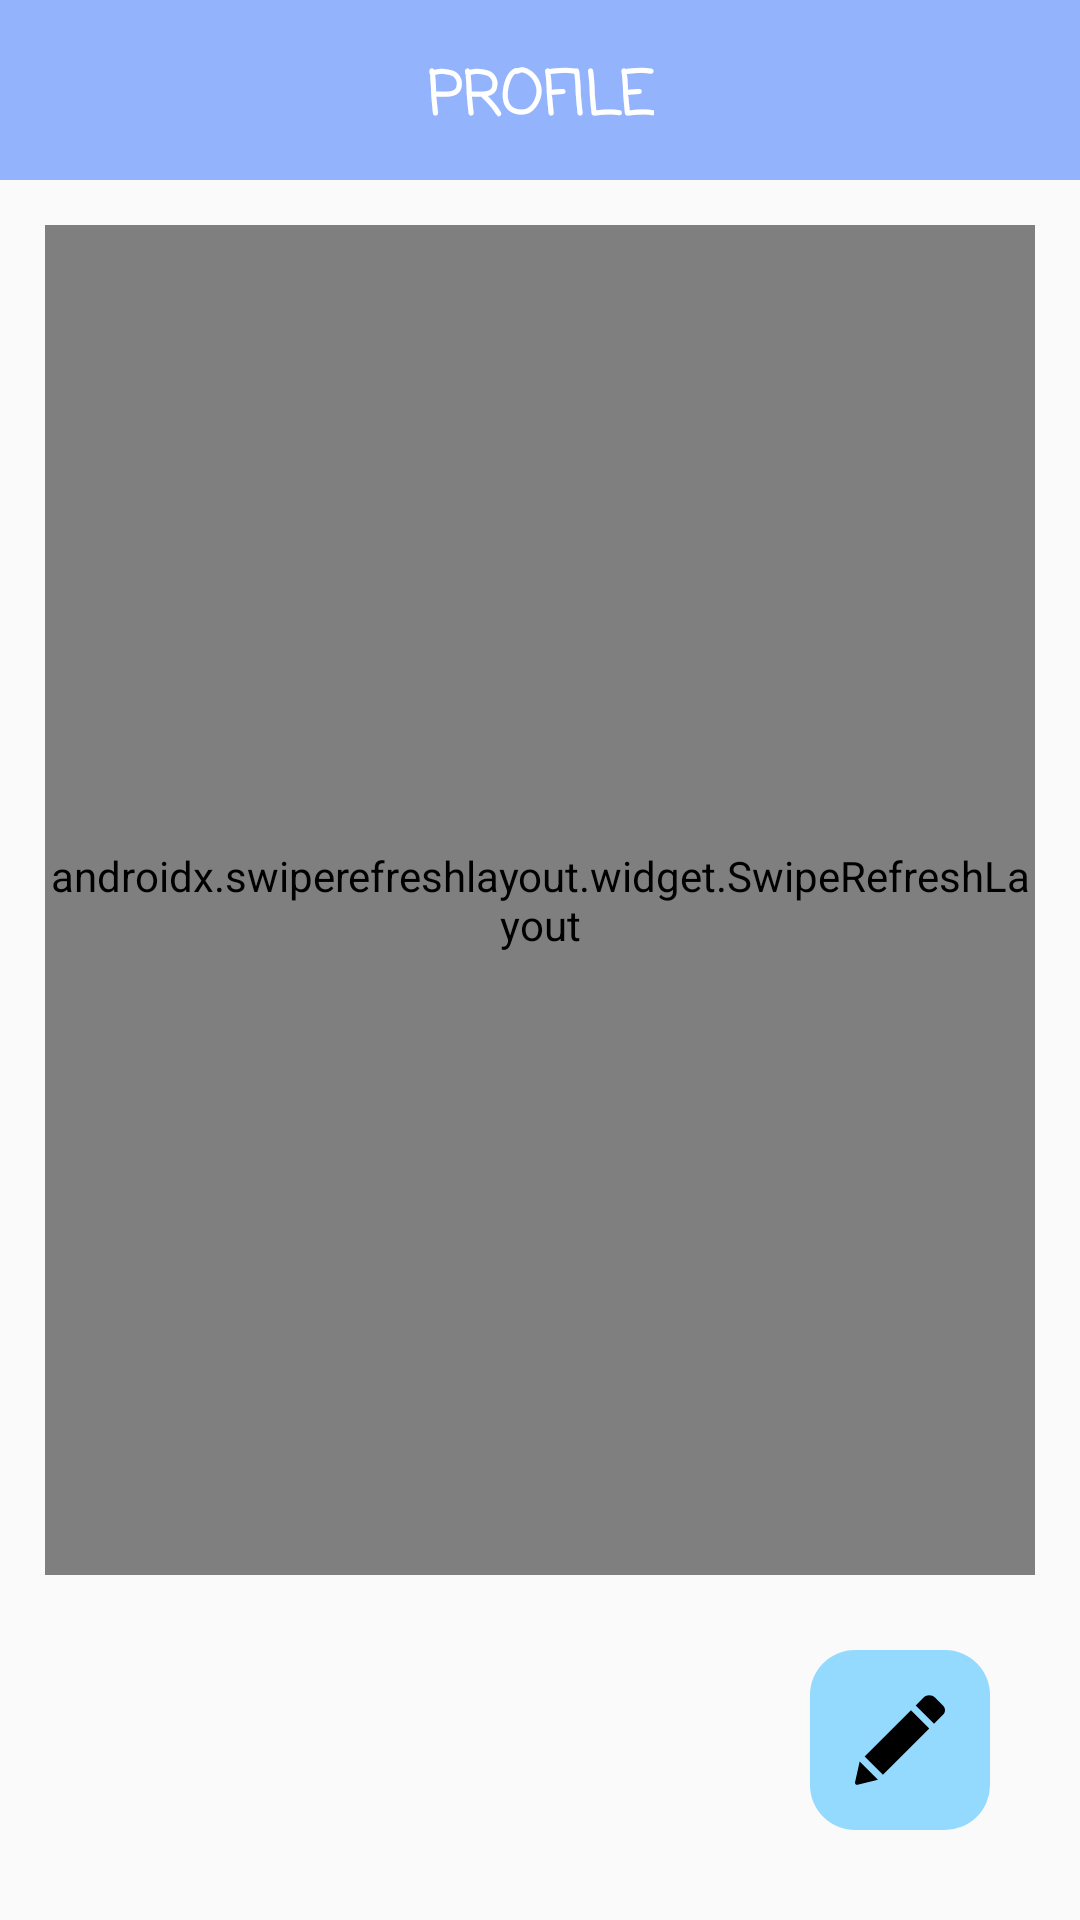

Named icons in this screenshot (1080 x 1920) and their centers, [x,y]:
pen: [900,1740]
